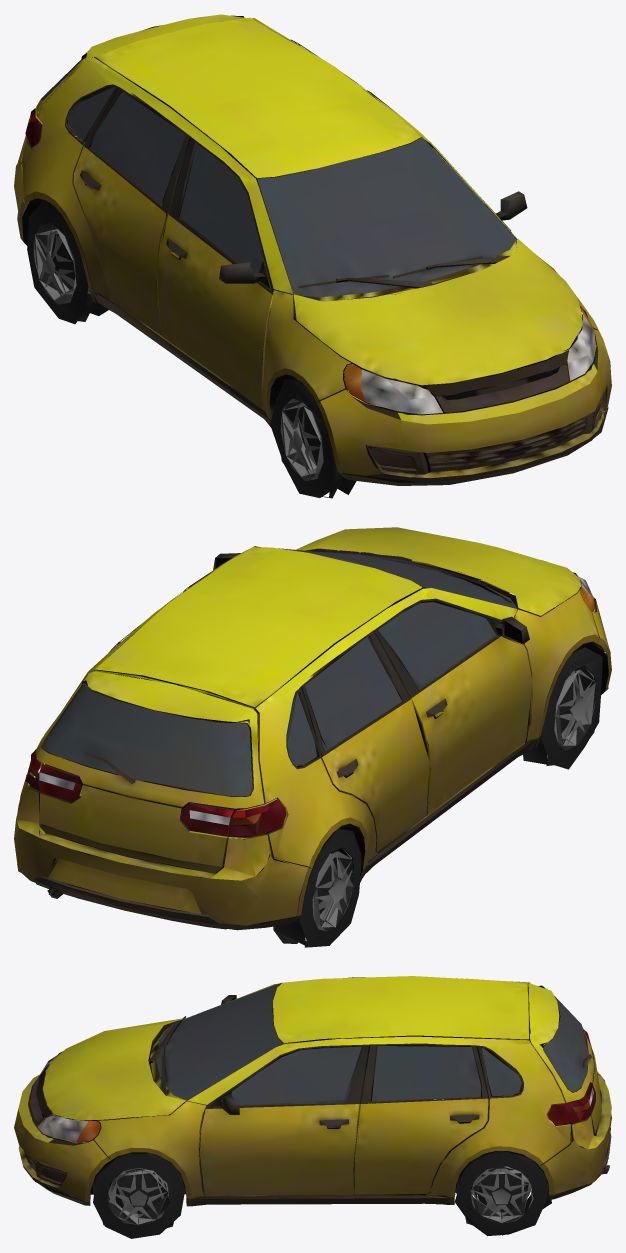
The model's file is pack-hatchback-L2.glb.
The picture shows the model from 3 angles, top to bottom: view 1: azimuth 30°, elevation 25°; view 2: azimuth 150°, elevation 25°; view 3: azimuth 270°, elevation 25°; orthographic projection. The views are drawn at different scales.
Visible parts, largest first — view 1: body, wheel-back-left, wheel-front-left, wheel-front-left.1, wheel-back-left.1; view 2: body, wheel-back-left, wheel-front-left, wheel-front-left.1, wheel-back-left.1; view 3: body, wheel-front-right, wheel-back-right, wheel-back-right.1, wheel-front-right.1.
Part boxes in pixels (x1,y1,x2,y2): body: (14, 14, 611, 485); wheel-back-left: (27, 202, 108, 323); wheel-front-left: (270, 378, 365, 498); wheel-front-left.1: (281, 398, 323, 479); wheel-back-left.1: (34, 226, 90, 303); body: (14, 527, 611, 930); wheel-back-left: (273, 828, 362, 947); wheel-front-left: (523, 647, 602, 769); wheel-front-left.1: (554, 667, 595, 746); wheel-back-left.1: (312, 849, 353, 930); body: (14, 976, 611, 1206); wheel-front-right: (93, 1153, 185, 1238); wheel-back-right: (455, 1151, 551, 1235); wheel-back-right.1: (471, 1166, 533, 1223); wheel-front-right.1: (108, 1168, 169, 1224).
Size of the model in its own units: 1.74 by 1.41 by 3.96.
Materials: 3 (1 with a texture image).
